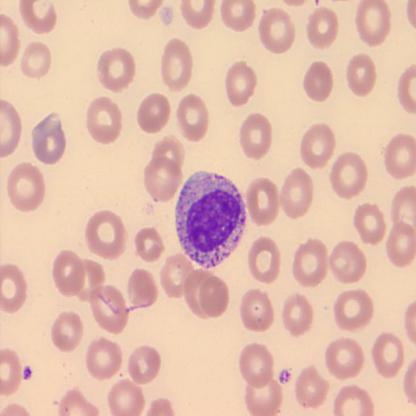Metamyelocyte: (172, 167, 249, 270)
